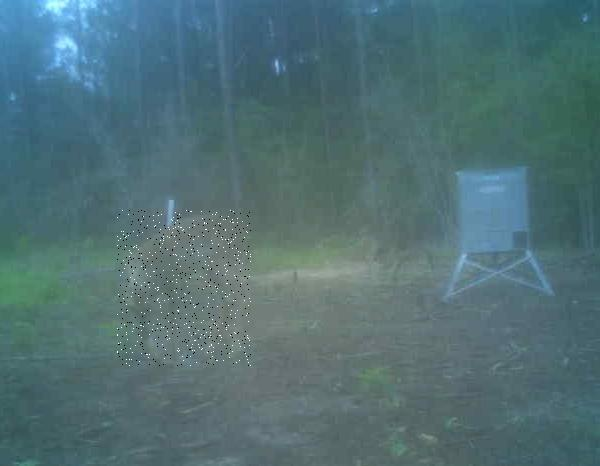Deer: (117, 211, 251, 367)
